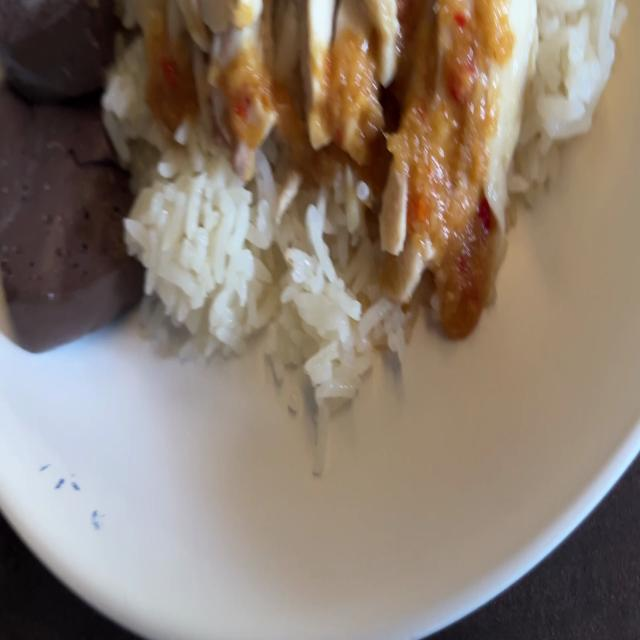chicken_rice: (140, 0, 521, 323)
noodle: (0, 0, 138, 327)
